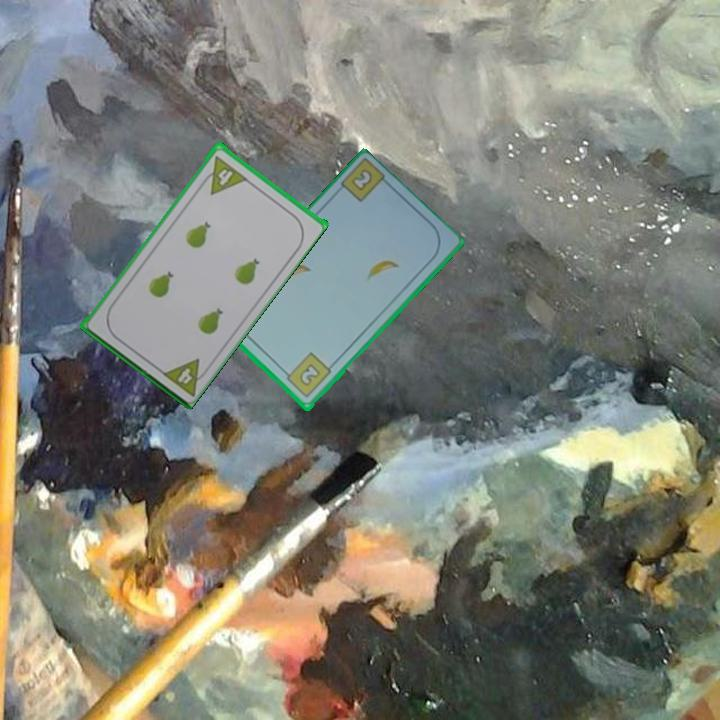2b: (280, 349, 334, 401), (348, 166, 376, 194)
4p: (157, 354, 213, 399), (197, 152, 249, 197)
